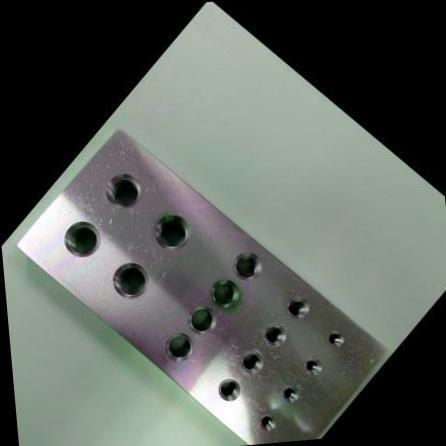hole: (144, 204, 200, 260), (55, 210, 111, 266), (102, 252, 158, 308), (98, 164, 152, 218), (156, 323, 202, 370), (180, 296, 225, 342), (203, 270, 248, 315), (226, 243, 270, 288), (255, 314, 294, 352), (234, 342, 270, 380), (211, 372, 248, 408), (280, 288, 316, 324), (322, 324, 350, 352), (300, 352, 328, 380), (254, 408, 282, 435), (277, 380, 304, 407)
